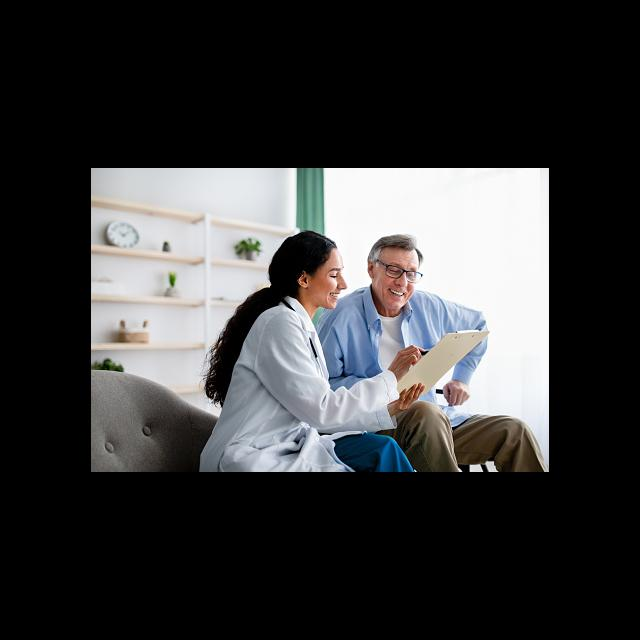female: (241, 207, 351, 308)
male: (366, 212, 426, 309)
